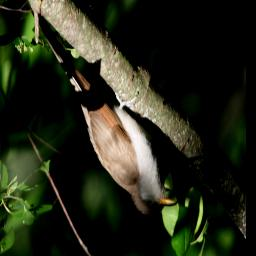Cuckoo: (33, 10, 178, 217)
